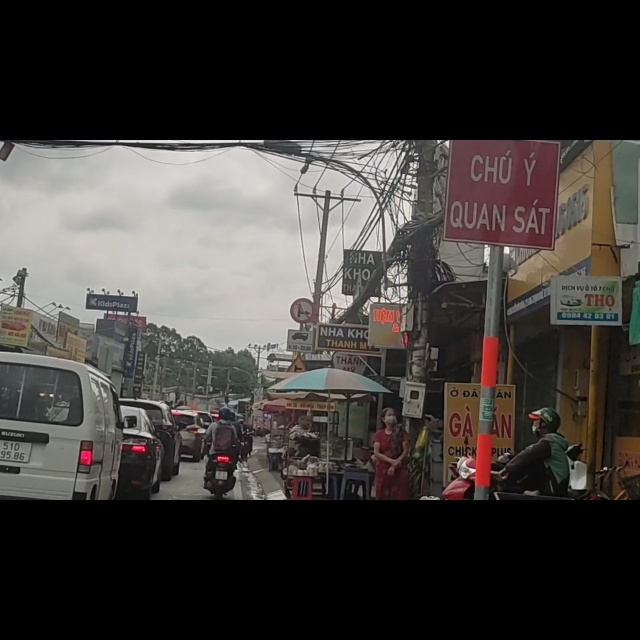bien_cam: (287, 277, 315, 328), (285, 335, 316, 373), (282, 384, 313, 414)
